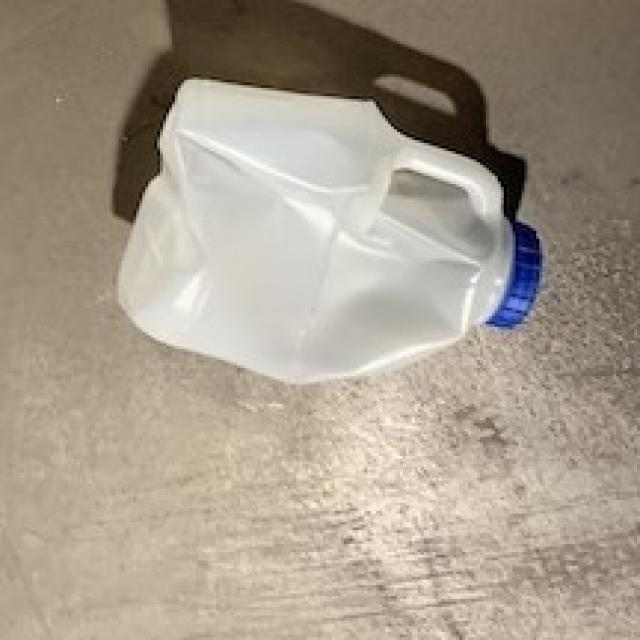HDPE Plastic: (112, 72, 546, 390)
